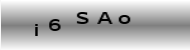6: (48, 18, 61, 31)
A: (97, 11, 113, 24)
S: (76, 11, 89, 24)
i: (33, 22, 38, 36)
o: (117, 14, 131, 24)
